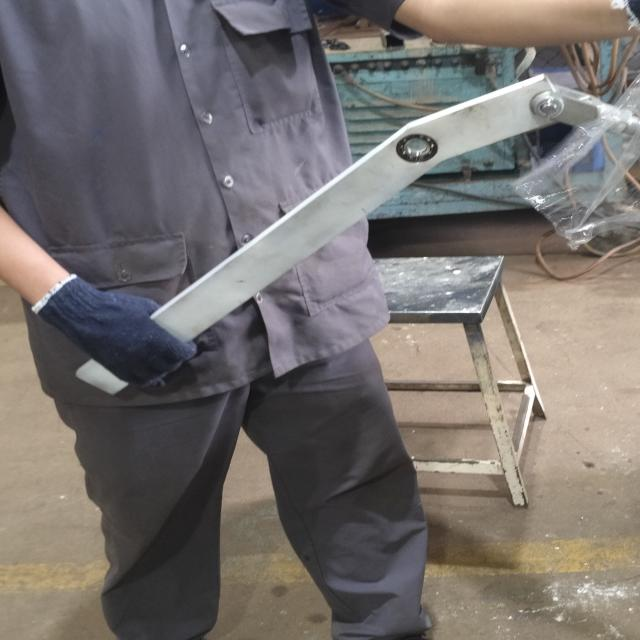Gloves-Detection: (34, 269, 185, 376)
